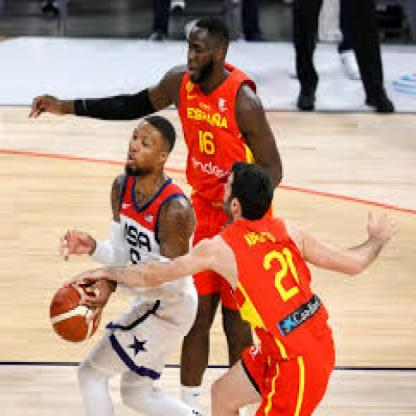basketball: (50, 282, 100, 342)
